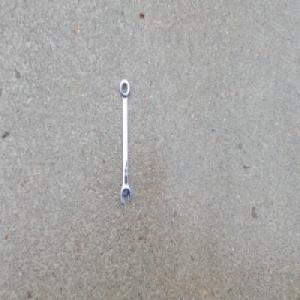Wrench: (119, 77, 131, 205)
